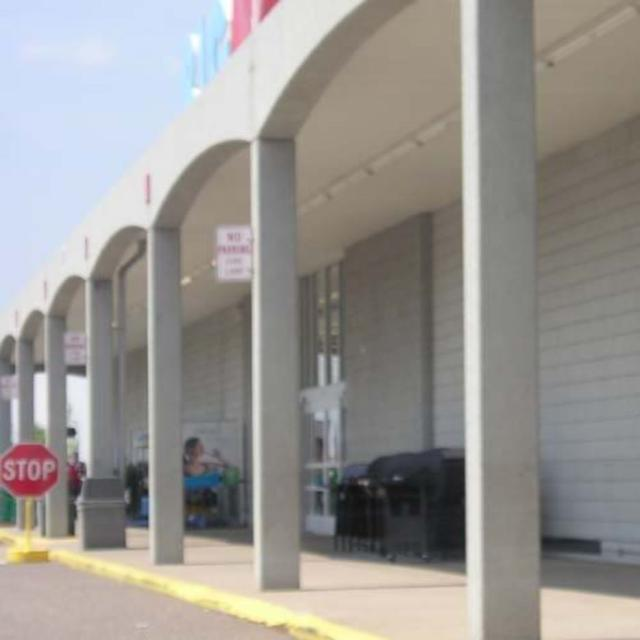Stop-sign: (2, 440, 62, 495)
